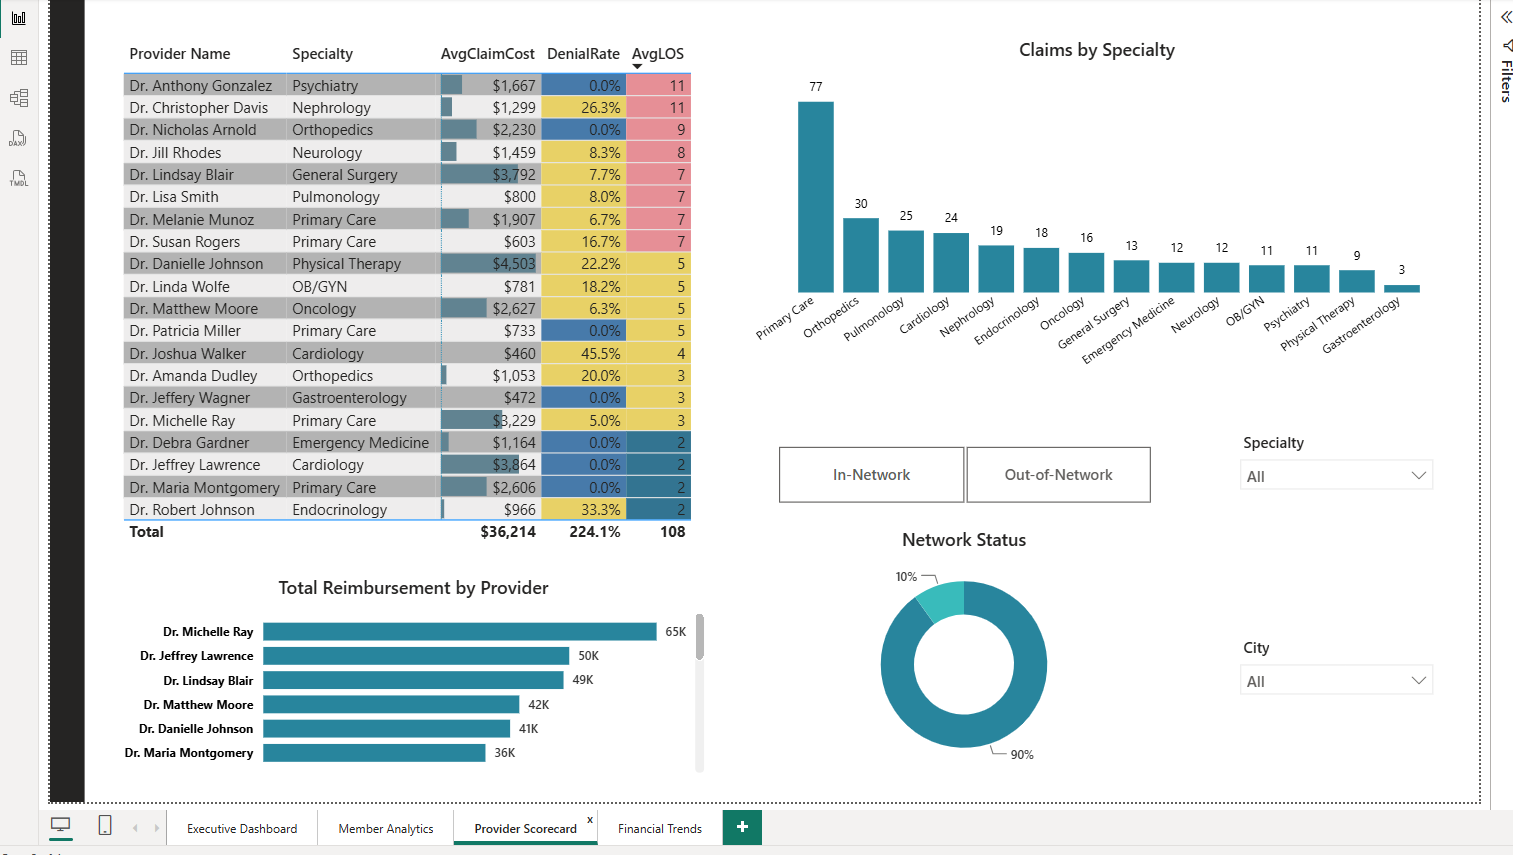

The page's visual inventory and layout, read from the dashboard file:
{"tool":"powerbi","page":{"name":"Provider Scorecard","canvas":[1280,720],"ordinal":2},"visuals":[{"type":"textbox","box":[0,0,31.4,720.1],"z":0},{"type":"tableEx","fields":{"Values":["vw_ProviderScorecard.provider_name","vw_ProviderScorecard.specialty","Sum(vw_ProviderScorecard.AvgClaimCost)","Sum(vw_ProviderScorecard.DenialRate)","Sum(vw_ProviderScorecard.AvgLOS)"]},"box":[60.4,34.8,530.8,468.1],"z":1000},{"type":"barChart","title":"Total Reimbursement by Provider","fields":{"Category":["vw_ProviderScorecard.provider_name"],"Y":["Sum(vw_ProviderScorecard.TotalReimbursement)"]},"box":[60.4,516.9,530.8,182.4],"z":2000},{"type":"clusteredColumnChart","title":"Claims by Specialty","fields":{"Category":["vw_ProviderScorecard.specialty"],"Y":["Sum(vw_ProviderScorecard.TotalClaims)"]},"box":[627.2,34.8,621.4,307.8],"z":3000},{"type":"donutChart","title":"Network Status","fields":{"Category":["vw_ProviderScorecard.network_status"],"Y":["CountNonNull(vw_ProviderScorecard.network_status)"]},"box":[627.2,473.9,383.3,225.3],"z":4000},{"type":"slicer","fields":{"Values":["vw_ProviderScorecard.specialty"]},"box":[1055.8,384.5,192.8,131.3],"z":5000},{"type":"slicer","fields":{"Values":["vw_ProviderScorecard.network_status"]},"box":[627.2,394.9,383.3,63.9],"z":6000},{"type":"slicer","fields":{"Values":["vw_ProviderScorecard.city"]},"box":[1055.8,568,192.8,131.3],"z":7000}]}

Visuals, with their boxes on the page's 1280x720 design canvas (x1, y1, x2, y2). These are canvas units, not pixel positions in the 1513x855 screenshot, which may show the page scaled, cropped or inside an application window:
textbox: 0 0 31 720
tableEx - vw_ProviderScorecard.provider_name x vw_ProviderScorecard.specialty: 60 35 591 503
"Total Reimbursement by Provider" barChart: 60 517 591 699
"Claims by Specialty" clusteredColumnChart: 627 35 1249 343
"Network Status" donutChart: 627 474 1010 699
slicer - vw_ProviderScorecard.specialty: 1056 384 1249 516
slicer - vw_ProviderScorecard.network_status: 627 395 1010 459
slicer - vw_ProviderScorecard.city: 1056 568 1249 699
